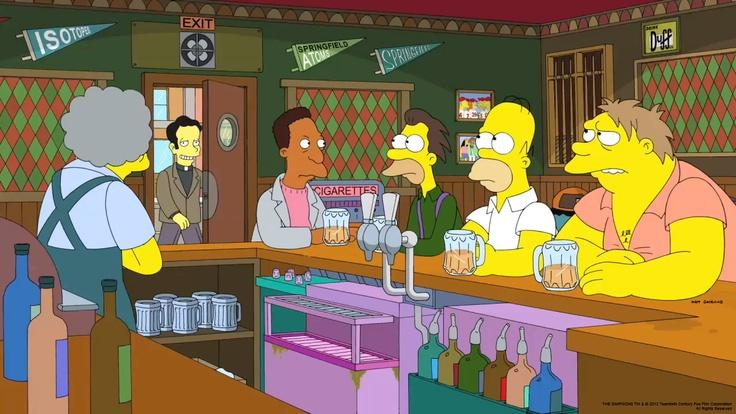Homer: (460, 104, 566, 288)
